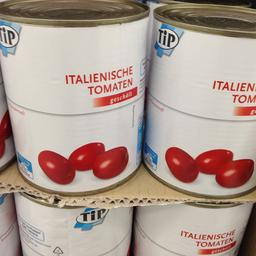tomato_sauce: (0, 0, 149, 194), (140, 2, 254, 198)
